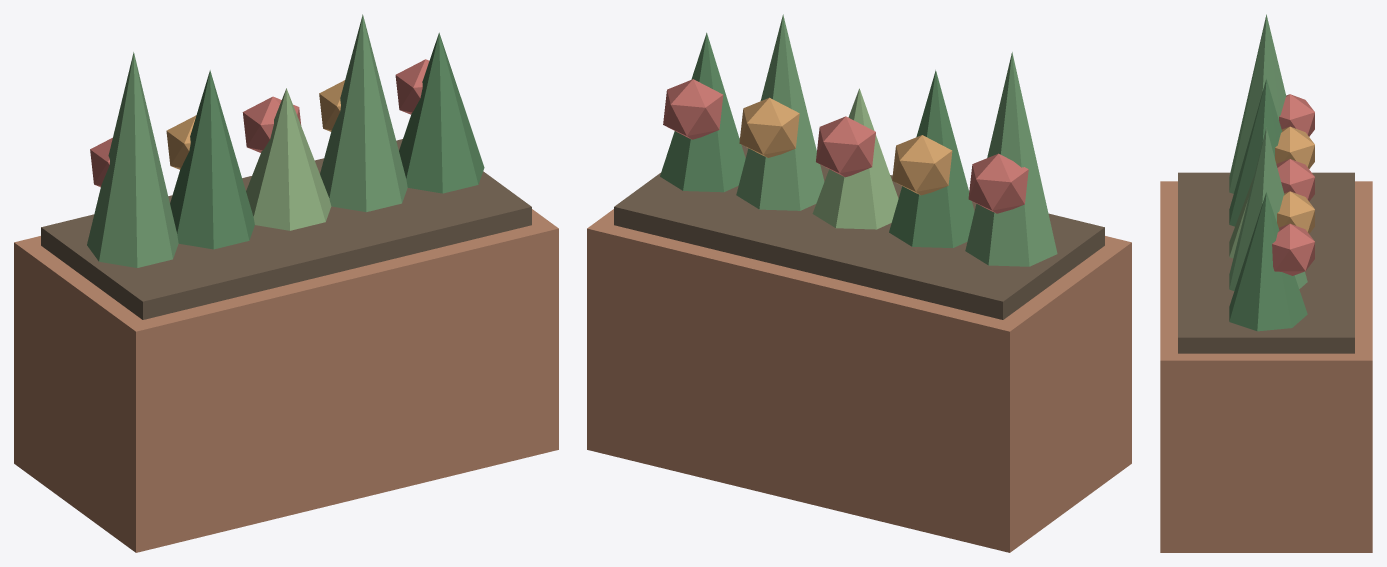
Rendered from pla_tomateiro.glb.
The picture shows the model from 3 angles, left to right: view 1: azimuth 30°, elevation 25°; view 2: azimuth 150°, elevation 25°; view 3: azimuth 270°, elevation 25°; orthographic projection. The views are drawn at different scales.
Parts seen in each view (by area): view 1: PLA_TOMATEIRO_v01; view 2: PLA_TOMATEIRO_v01; view 3: PLA_TOMATEIRO_v01.
Part boxes in pixels (left/top/right/bottom): PLA_TOMATEIRO_v01: left=14, top=14, right=558, bottom=552; PLA_TOMATEIRO_v01: left=587, top=14, right=1131, bottom=552; PLA_TOMATEIRO_v01: left=1160, top=14, right=1372, bottom=552.
Size of the model in its own units: 0.36 by 0.36 by 0.18.
